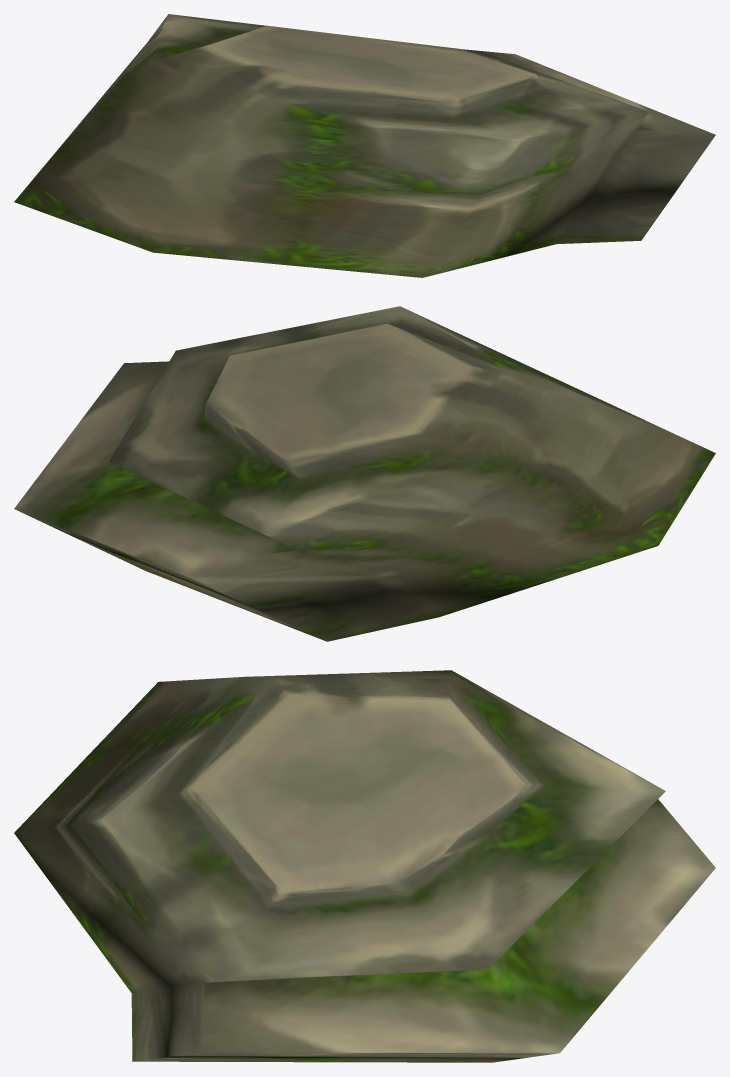
The model's file is RockFormation_4_5 (43).fbx.
3 views of the same model, one above another, from view 1: azimuth 30°, elevation 25°; view 2: azimuth 150°, elevation 25°; view 3: azimuth 270°, elevation 25° (orthographic). The views are drawn at different scales.
Visible parts, largest first — view 1: RockFormation_4_5 (43); view 2: RockFormation_4_5 (43); view 3: RockFormation_4_5 (43).
Part boxes in pixels (bbox=[...]): RockFormation_4_5 (43): bbox=[14, 14, 715, 277]; RockFormation_4_5 (43): bbox=[14, 306, 715, 641]; RockFormation_4_5 (43): bbox=[14, 670, 715, 1062].
Size of the model in its own units: 111 by 34.23 by 93.94.
